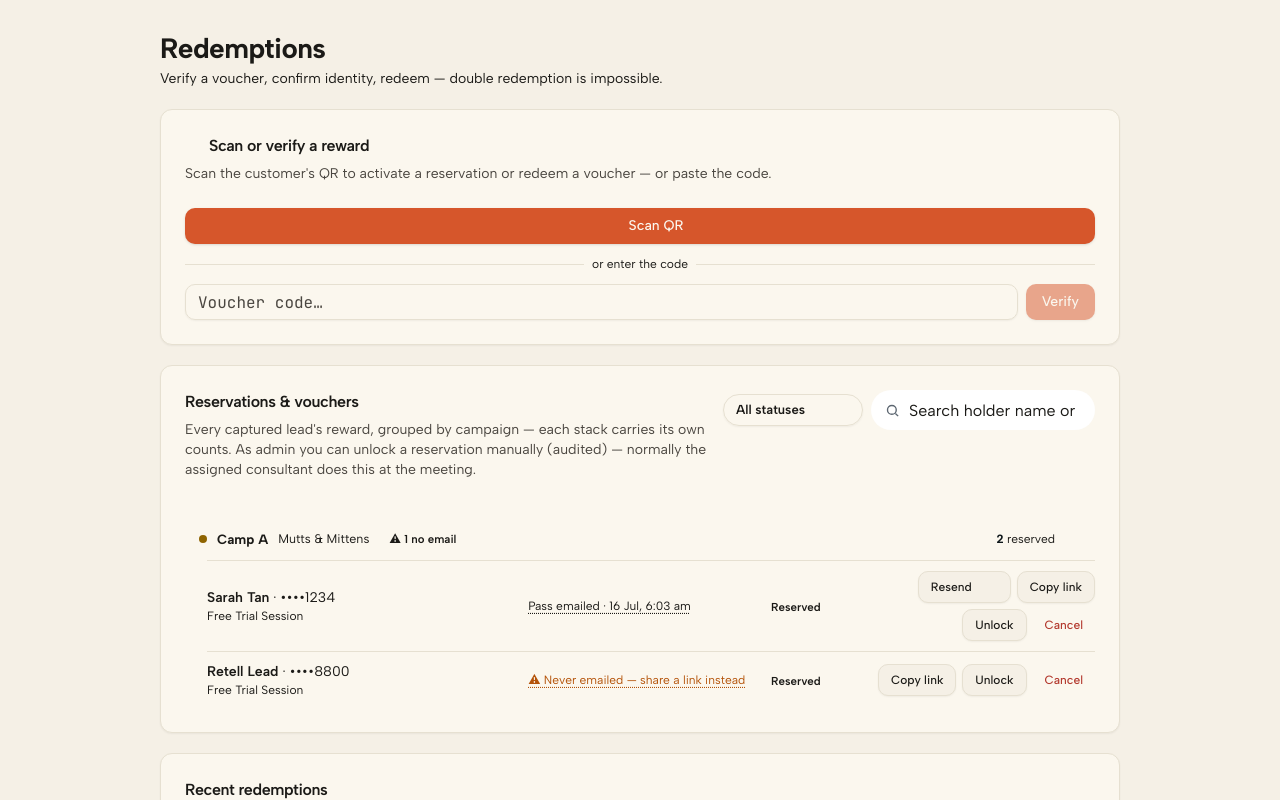
Test: RedemptionsPage campaign stacks + delivery truth › link channel shows the one-time bundle with the WhatsApp deep link
# The no-email row still gets Copy link — use it (index 1).
Click the button with aria-label "Copy link — " at coordinates (917, 680), box [878,664,956,696]
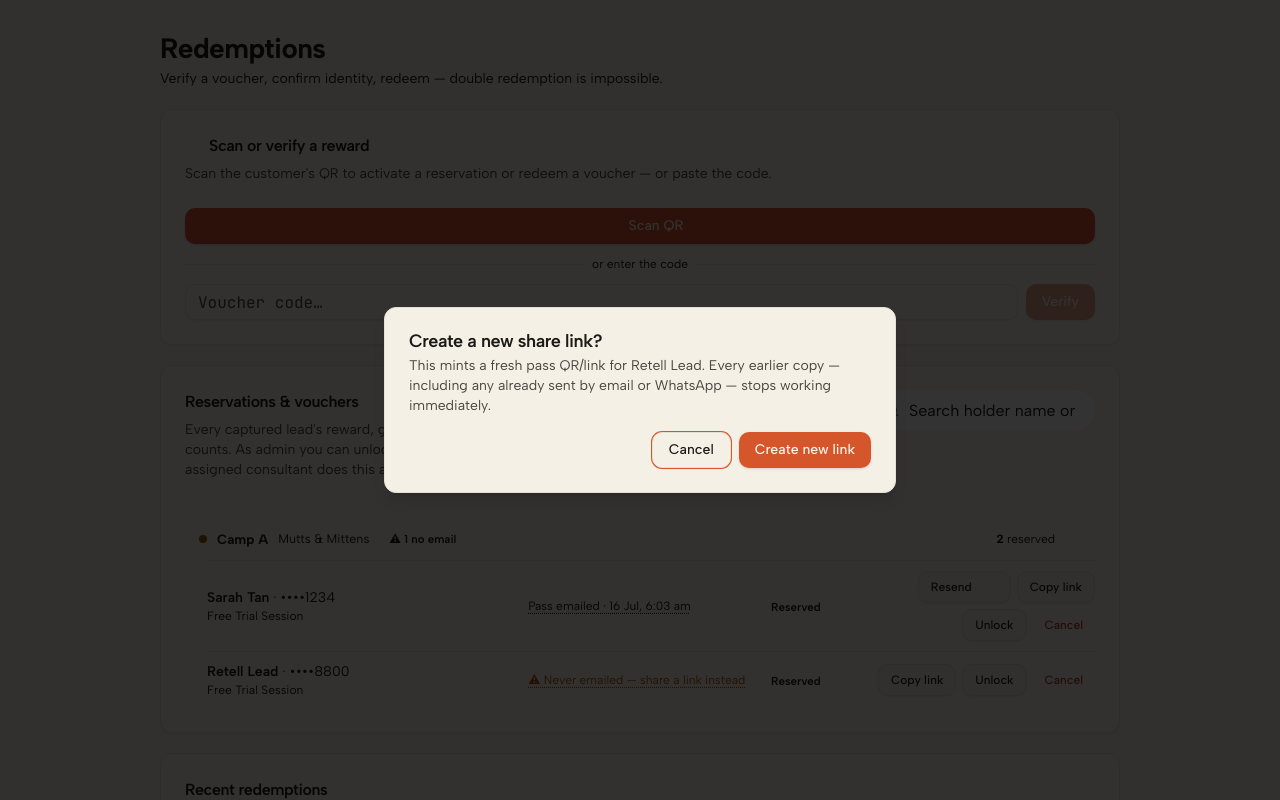
Click the button "Create new link" at coordinates (805, 450), box [739,432,871,468]
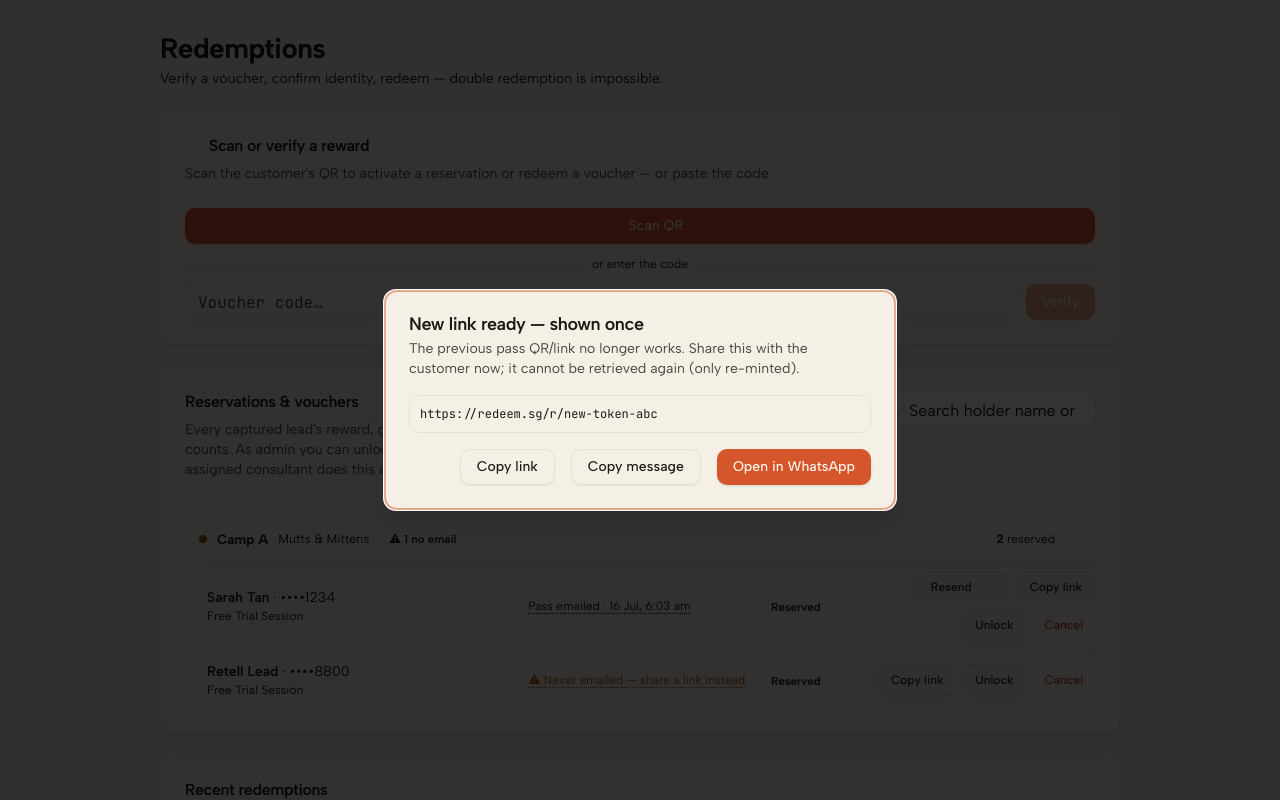
expect the text "https://redeem.sg/r/new-token-abc" is shown: met, box [409,395,871,433]
